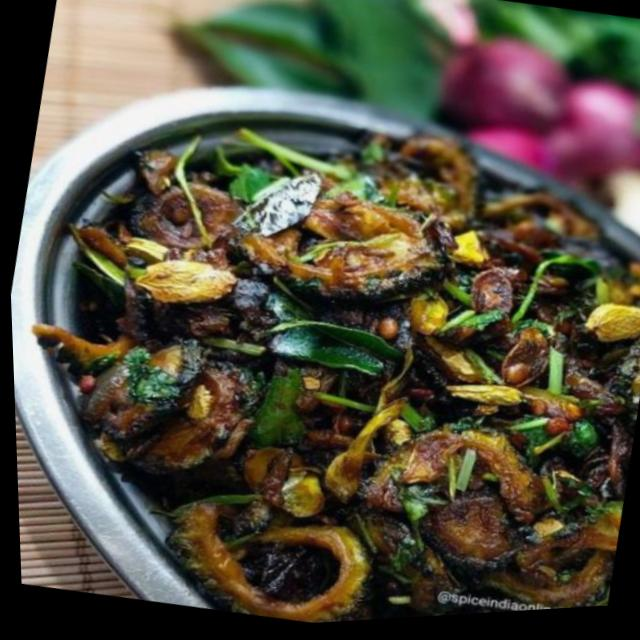VEGGIES: (39, 138, 640, 623)
